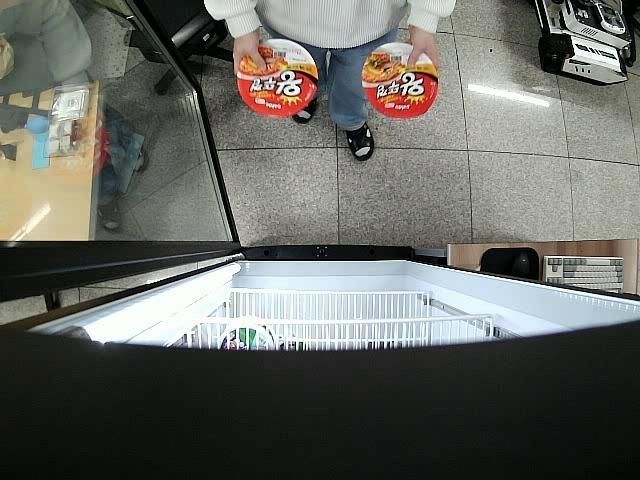10_wangTtukkeong: (237, 38, 319, 116), (363, 42, 437, 118)
